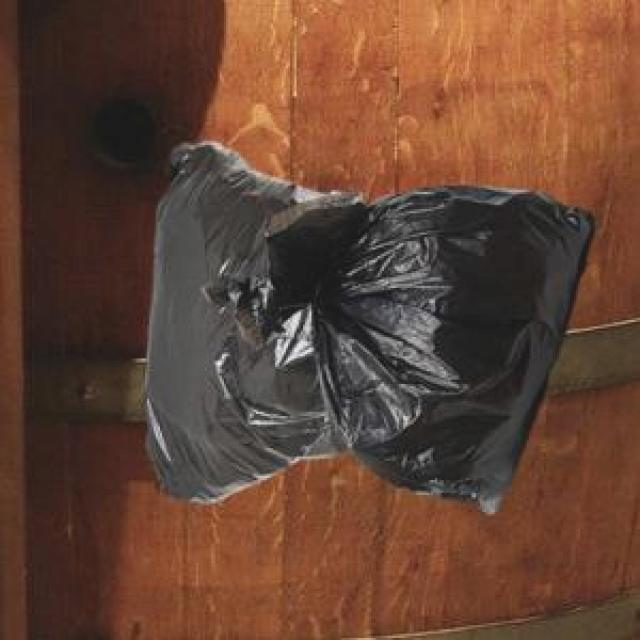Trashbag: (303, 176, 603, 516), (135, 135, 355, 510)
